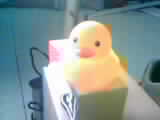duck: (60, 19, 115, 69)
